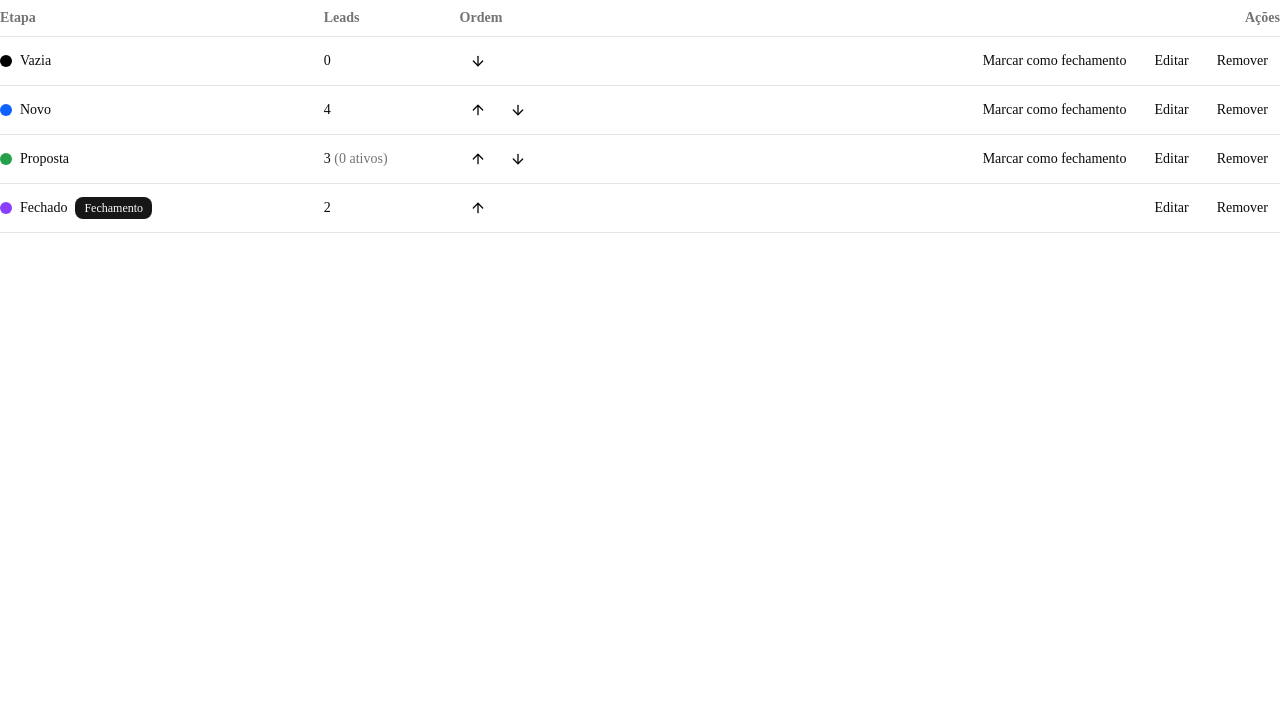
Test: EtapasTable — exclusão recusada › excluir recusado mantém o diálogo aberto
Click the button with aria-label "Remover etapa" at (1242, 61), box [1205,45,1279,77]
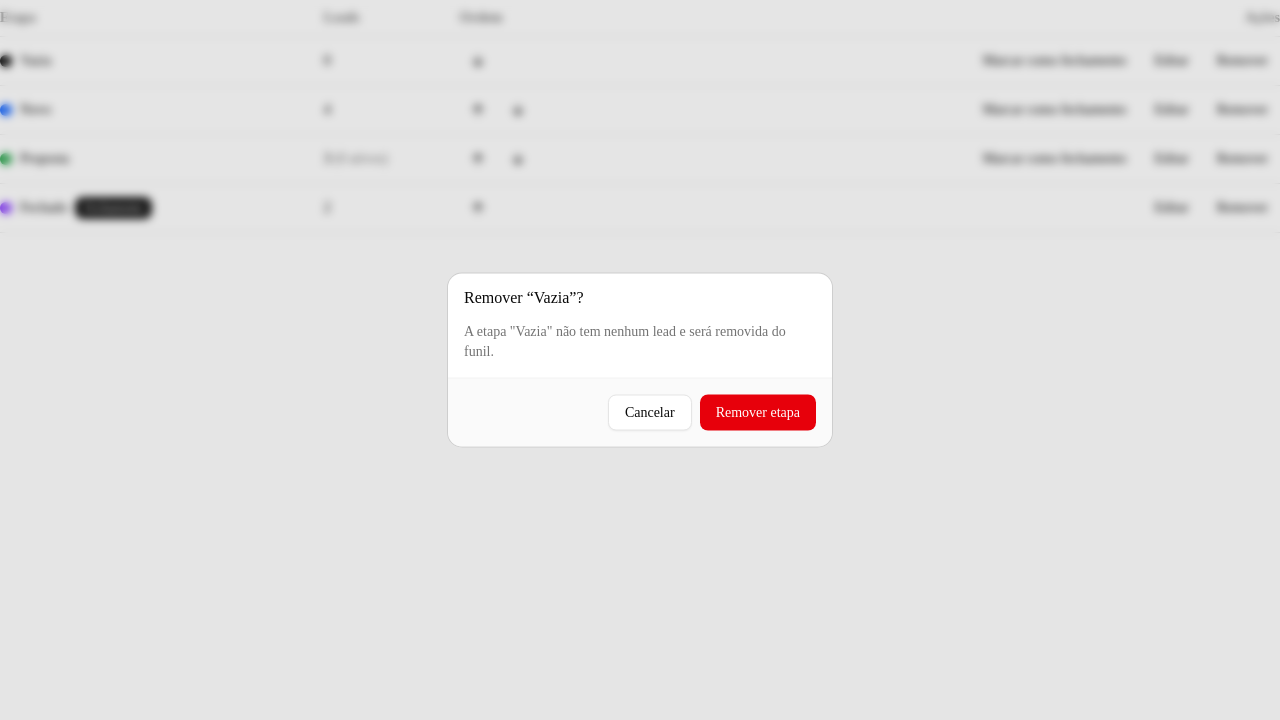
Click the button "Remover etapa" at (758, 412), box [700,394,816,430]
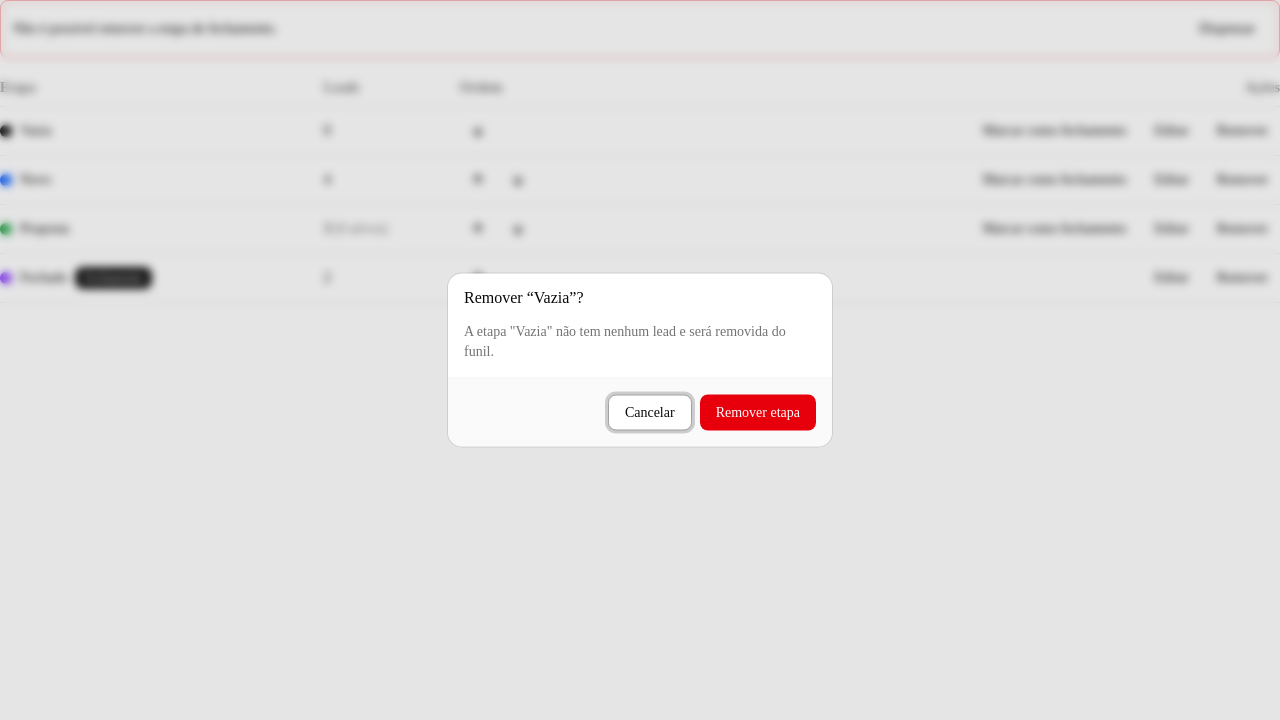
Expected: the button "Remover etapa" is shown, [700,394,816,430]
Expected: the text "etapa de fechamento" is shown, [13,21,277,36]
